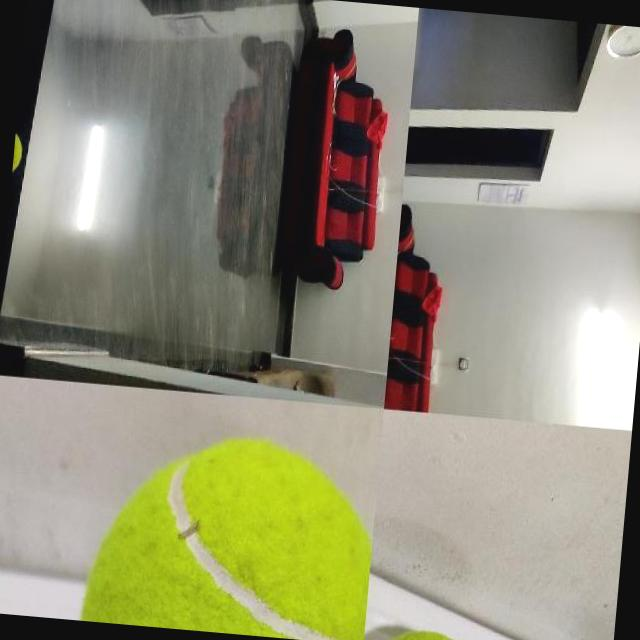Tennis Ball: (76, 420, 380, 640), (12, 126, 24, 176)
